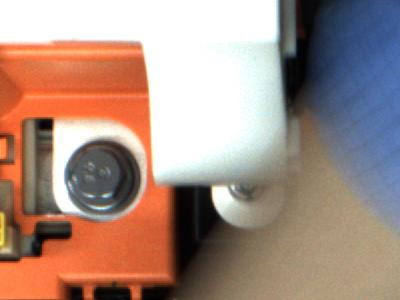nut_b: (58, 140, 139, 214)
